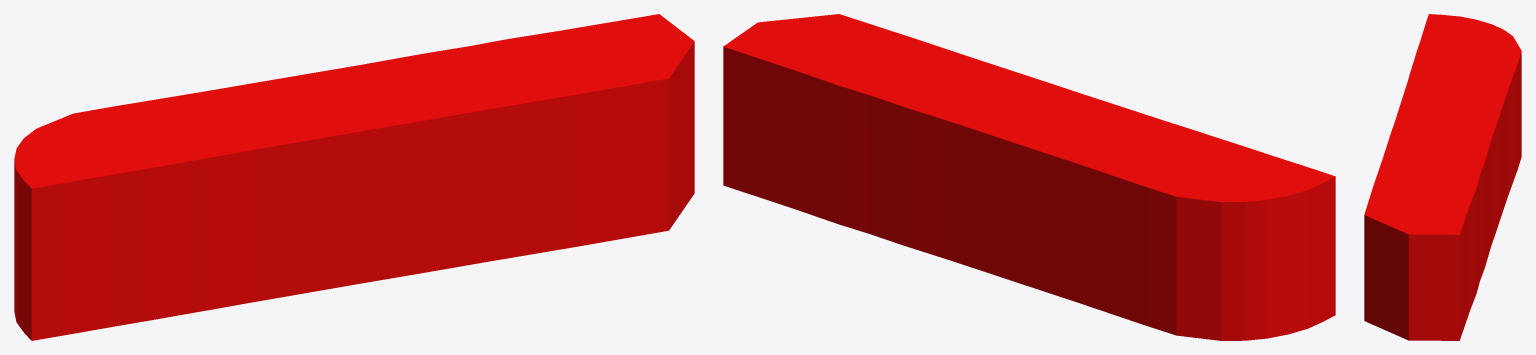
3 renders of one model, left to right at view 1: azimuth 30°, elevation 25°; view 2: azimuth 150°, elevation 25°; view 3: azimuth 270°, elevation 25°, orthographic. The views are drawn at different scales.
Parts seen in each view (by area): view 1: 8_5; view 2: 8_5; view 3: 8_5.
Part boxes in pixels (x1=…): 8_5: x1=14, y1=14, x2=694, y2=340; 8_5: x1=723, y1=14, x2=1335, y2=340; 8_5: x1=1364, y1=14, x2=1521, y2=340.
Bounding box in the file's own units: 0.0508 × 0.0114 × 0.0153.
Materials: 1 (1 with a texture image).
